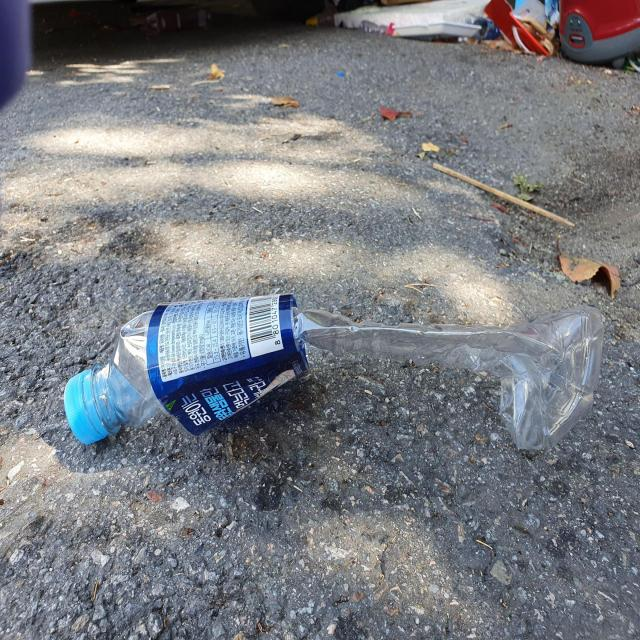plastic: (64, 294, 604, 450)
